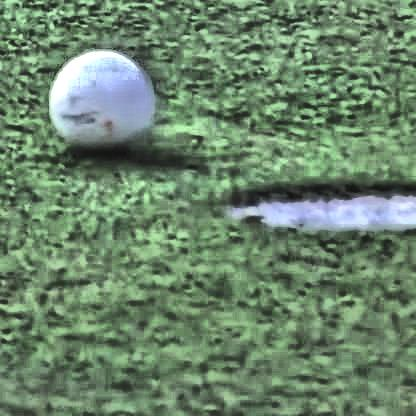golfball: (46, 49, 152, 151)
